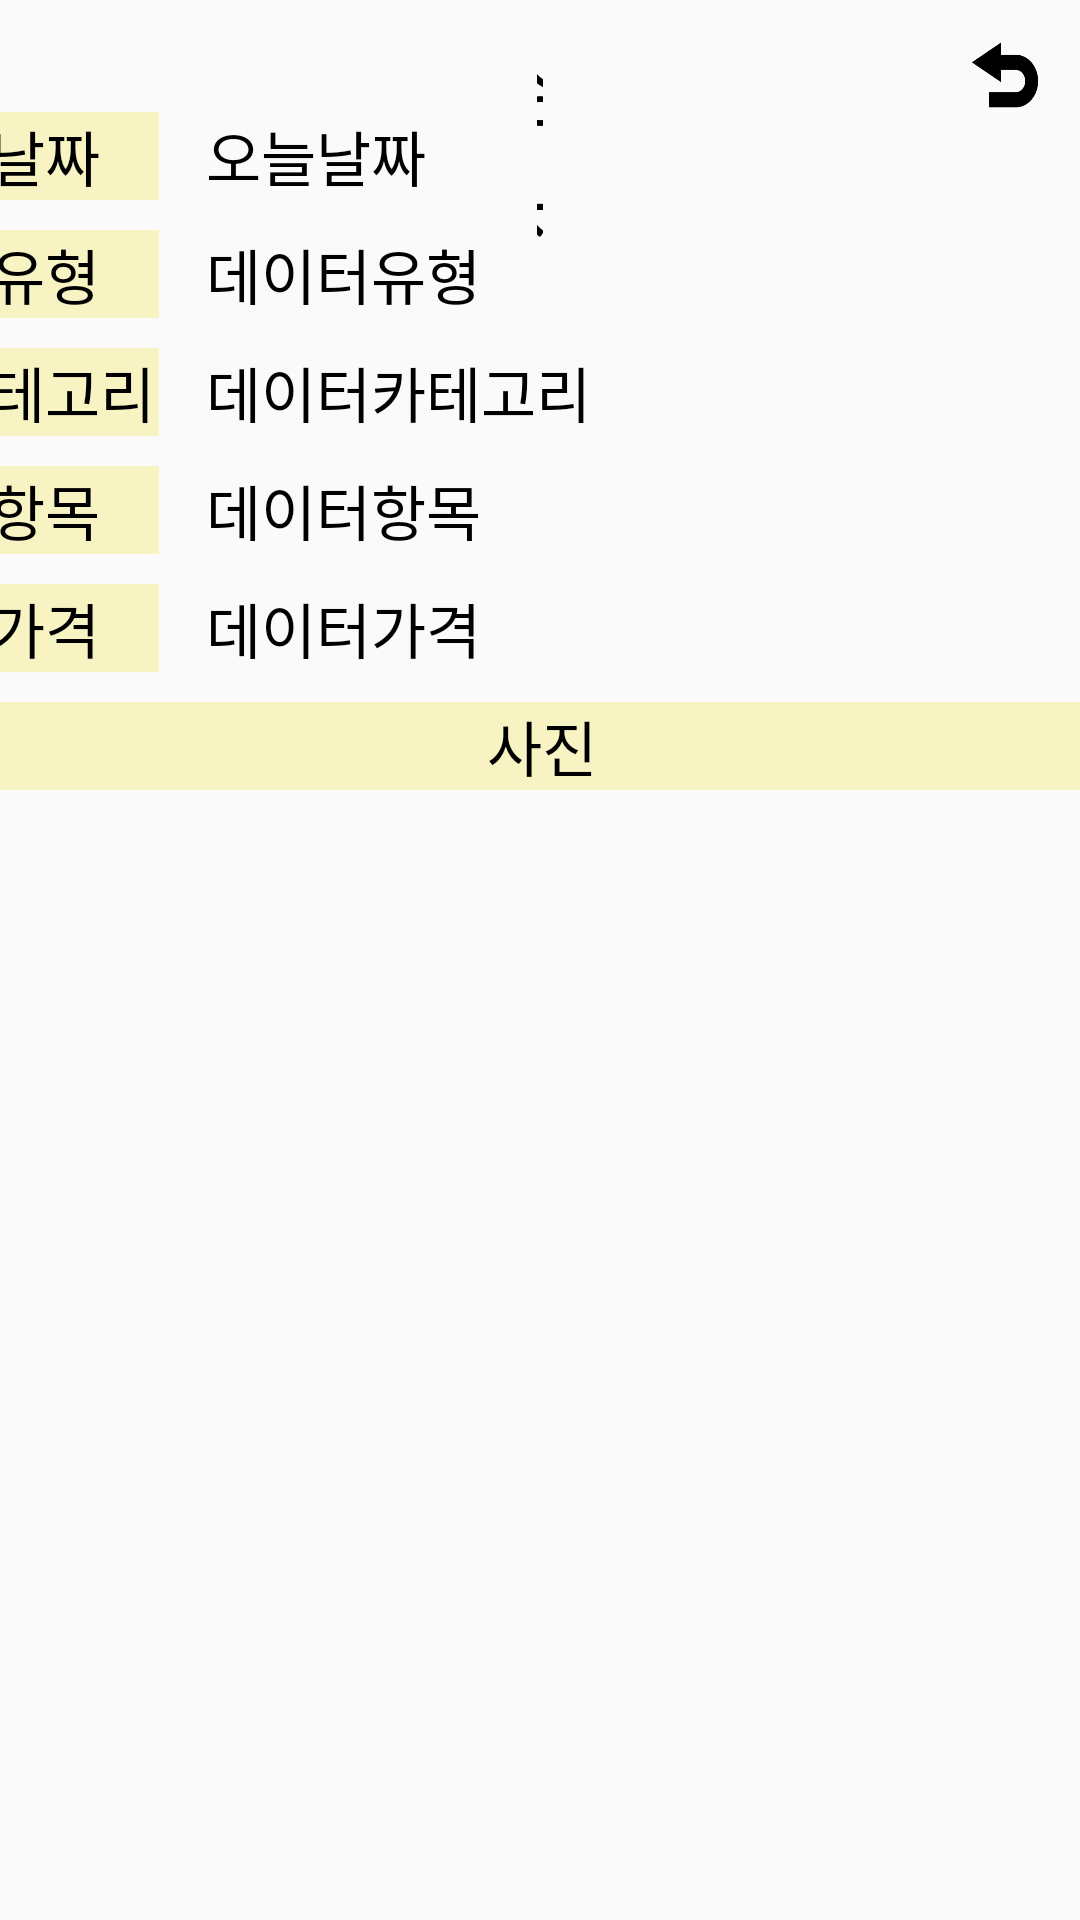

Screen size 1080 × 1920. Icon name, then its center in pixels as [x,y]:
back: [1005,75]
